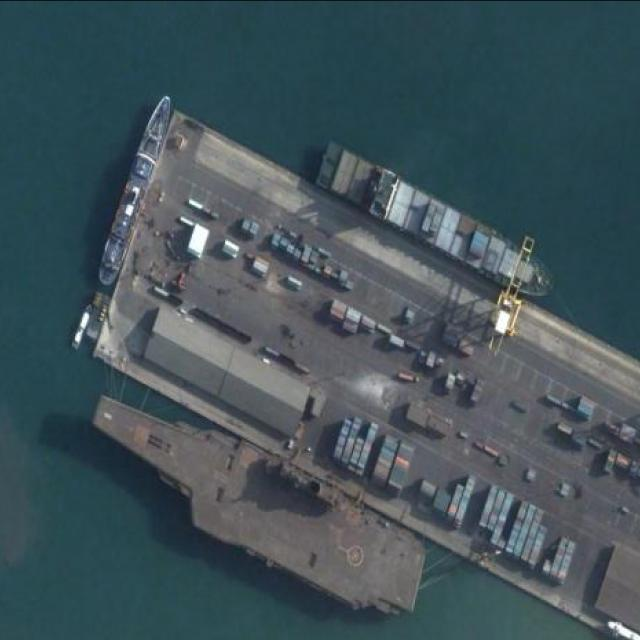Aircraft Carrier: (64, 373, 449, 633)
Container Ship: (310, 140, 564, 305)
Other Ship: (91, 92, 179, 287)
